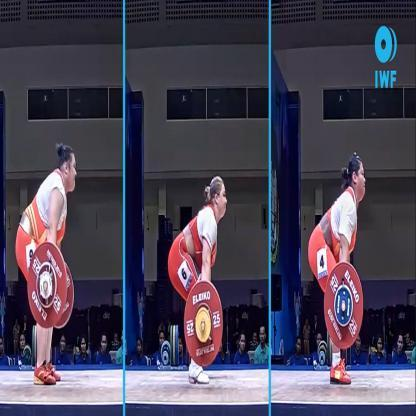barbell: (28, 242, 76, 330), (324, 261, 365, 349), (182, 279, 222, 366)
